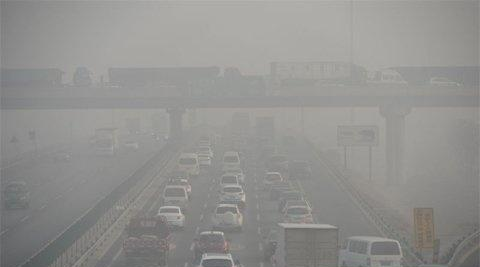bus: (271, 56, 409, 95), (107, 62, 265, 95), (269, 220, 341, 267), (124, 212, 171, 267), (1, 64, 93, 92), (93, 126, 120, 157)
car: (337, 234, 405, 266), (193, 229, 231, 259), (210, 201, 242, 231), (279, 204, 313, 231), (162, 183, 190, 213), (428, 73, 467, 94), (4, 180, 31, 209), (217, 183, 246, 209), (157, 204, 186, 229), (196, 250, 236, 267), (278, 188, 304, 213), (177, 152, 201, 178), (221, 150, 244, 173), (289, 159, 313, 179), (218, 172, 240, 193), (166, 165, 189, 185), (266, 153, 289, 172), (262, 172, 283, 192), (193, 147, 213, 167), (123, 138, 139, 150)
